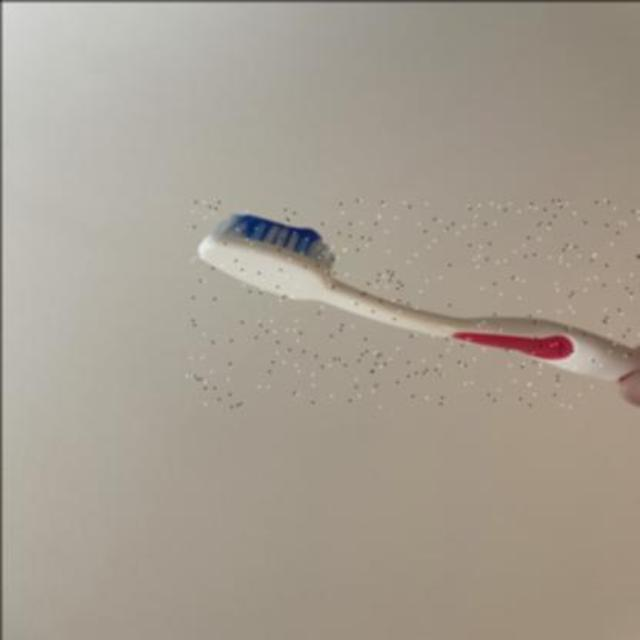toothbrush: (184, 198, 640, 406)
